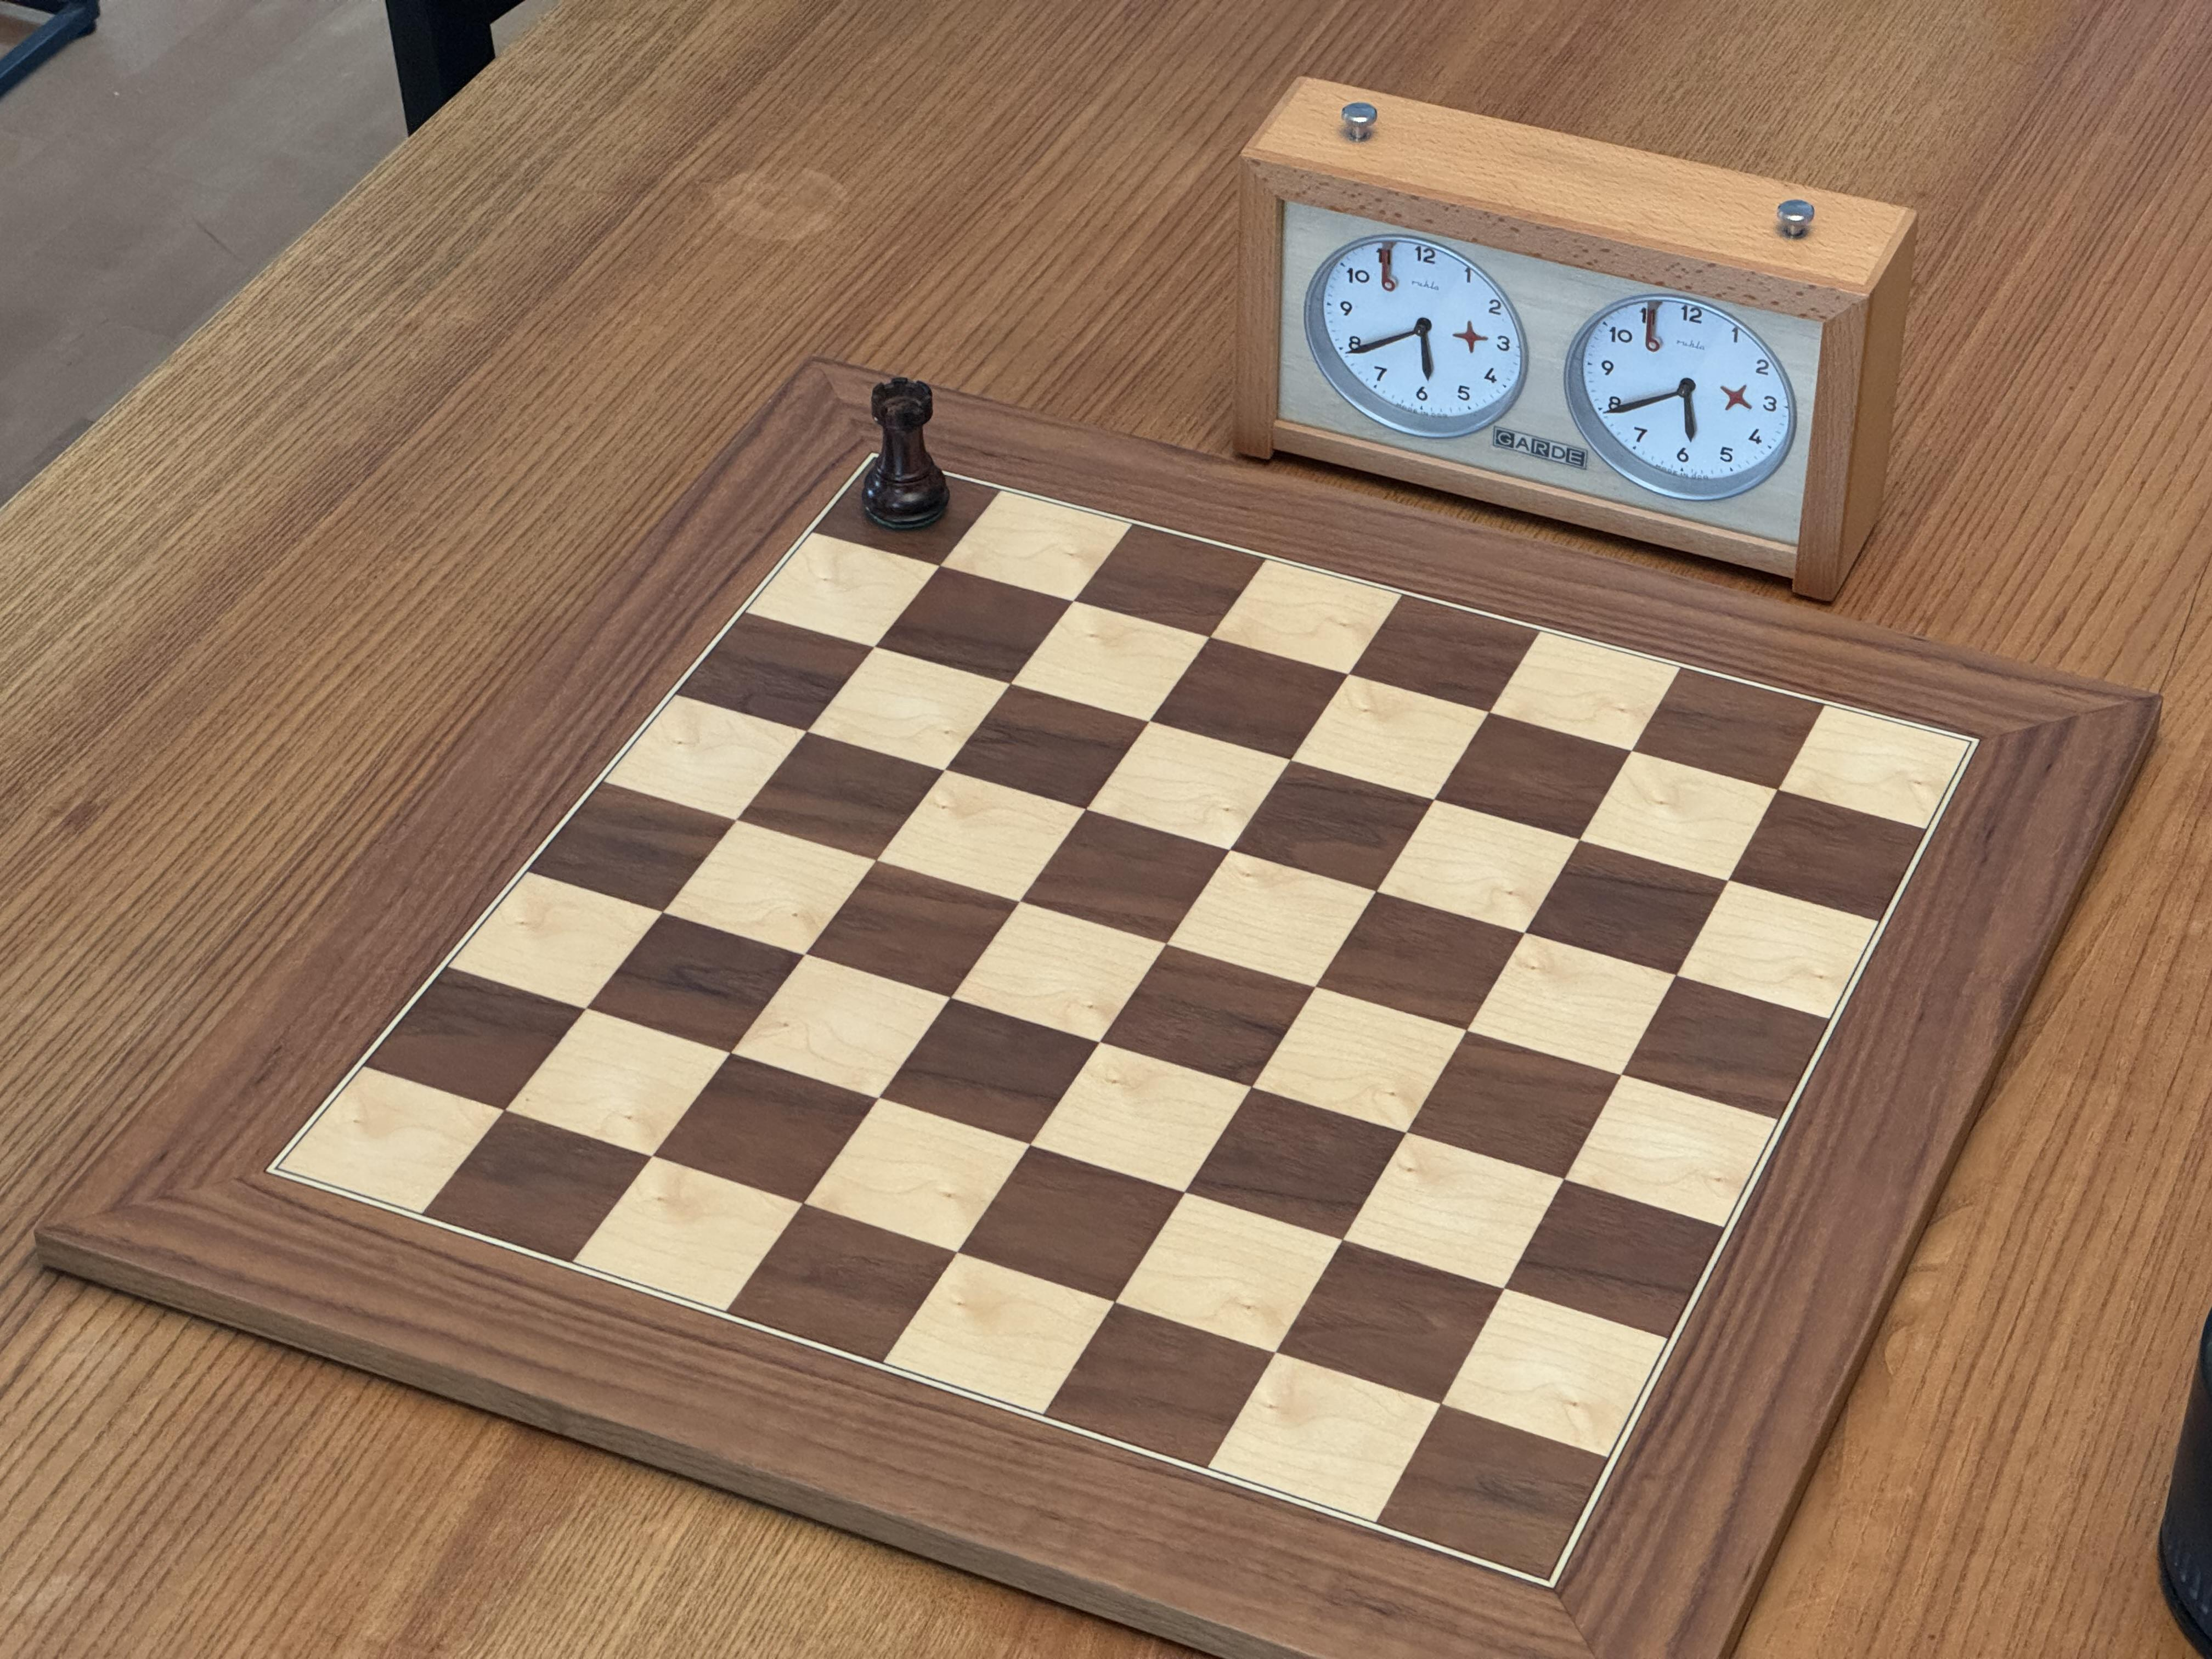Black Rook: (855, 371, 954, 535)
